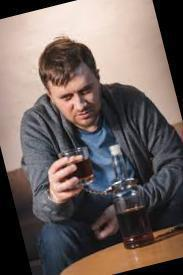Drunk: (54, 72, 100, 129)
